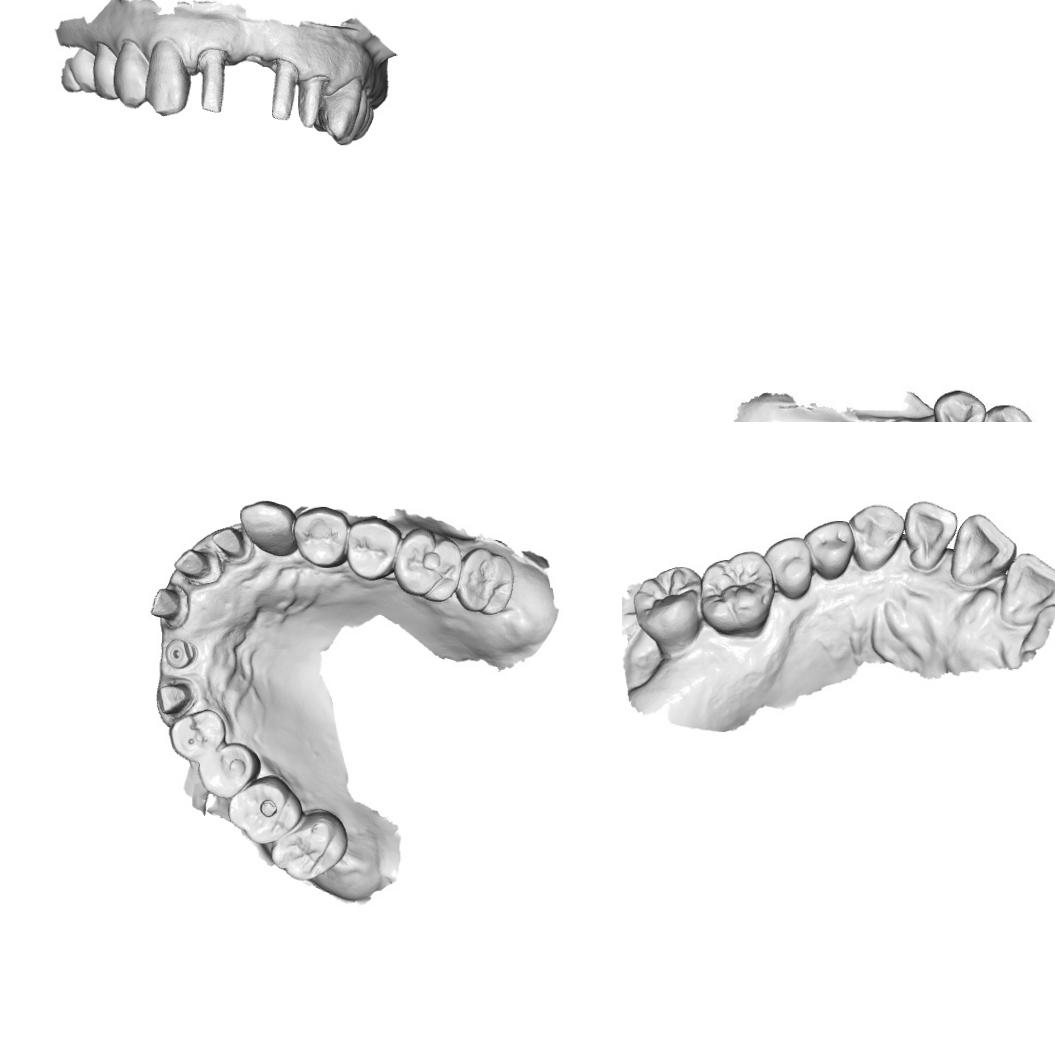canine: (142, 36, 192, 117), (848, 502, 905, 572), (237, 498, 298, 558), (974, 399, 1036, 422)
crown: (196, 47, 232, 115), (264, 56, 298, 122), (292, 71, 328, 132), (170, 545, 222, 586), (144, 584, 189, 628), (153, 678, 196, 718), (208, 525, 252, 564)
implant: (164, 636, 196, 670)
incisor: (950, 512, 1018, 588), (998, 550, 1055, 626), (904, 498, 958, 572)
molar: (700, 548, 776, 636), (631, 564, 704, 650), (268, 808, 350, 883), (391, 522, 464, 604), (454, 545, 517, 617), (67, 40, 99, 95)
premolar: (225, 772, 304, 846), (344, 516, 403, 584), (290, 502, 349, 570), (196, 741, 262, 801), (762, 534, 814, 601), (804, 518, 856, 582), (167, 707, 228, 761), (110, 38, 151, 110), (93, 36, 119, 102), (934, 391, 977, 422)
